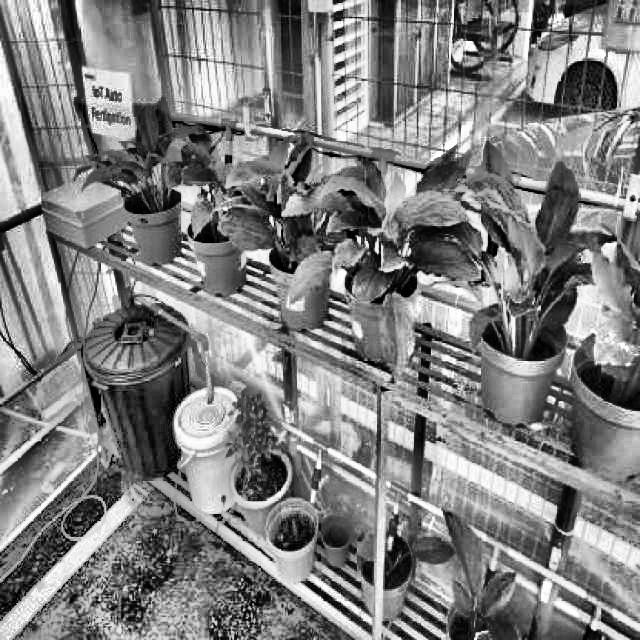plants: (289, 142, 483, 384), (467, 142, 618, 358), (73, 95, 215, 214), (216, 132, 332, 272), (165, 128, 253, 244)
